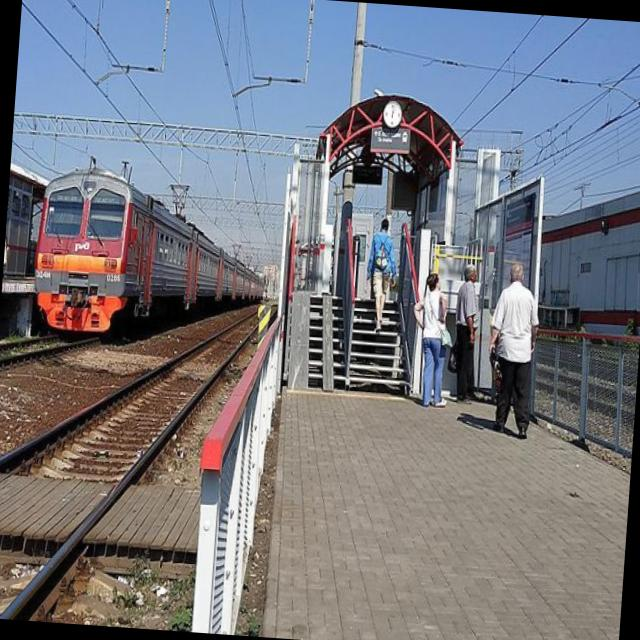person: (487, 263, 538, 439), (413, 273, 451, 407), (365, 218, 395, 331), (455, 264, 478, 403)
trains: (34, 169, 264, 332)
